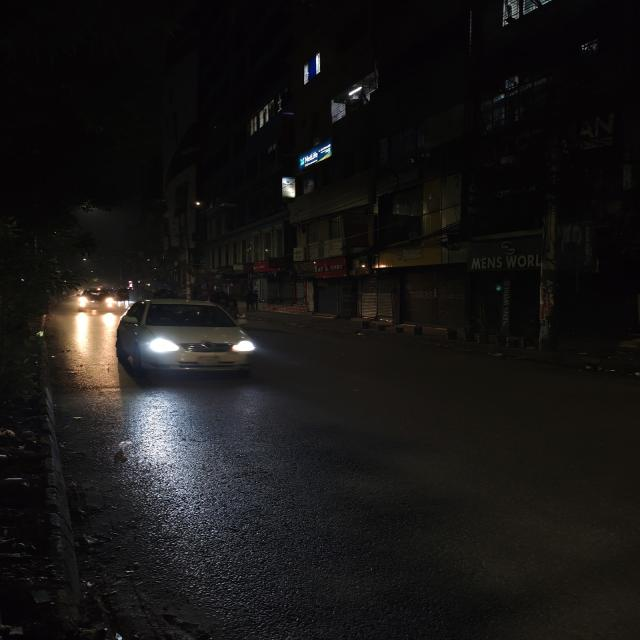car: (110, 298, 263, 382), (74, 288, 115, 314)
rickshaw: (210, 290, 246, 318)
